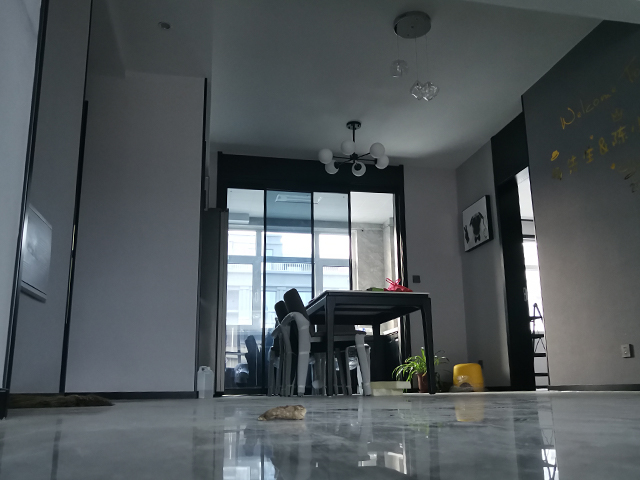feces: (256, 403, 308, 423)
stool: (269, 287, 374, 398), (451, 362, 486, 394)
table: (306, 289, 440, 398)
